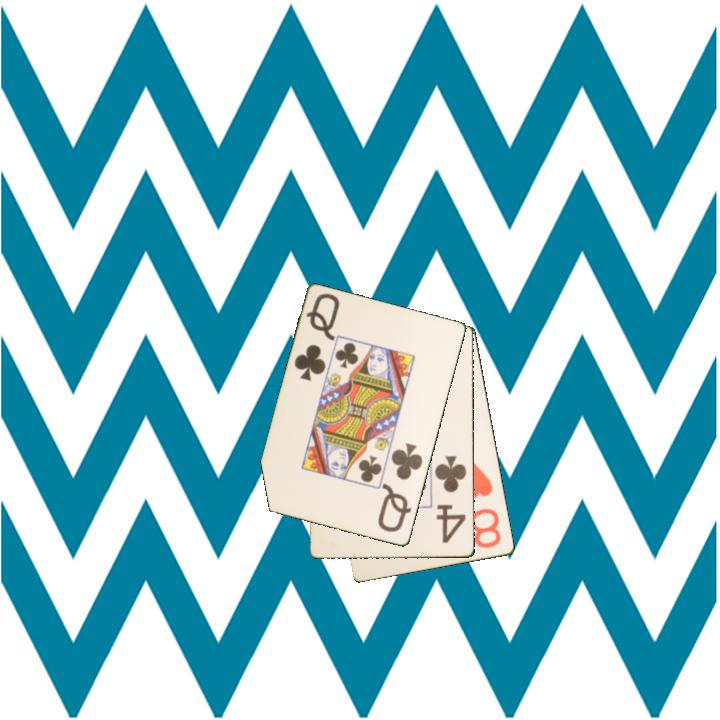4c: (432, 453, 470, 547)
8h: (461, 459, 505, 551)
Qc: (374, 440, 426, 535), (291, 290, 343, 384)
